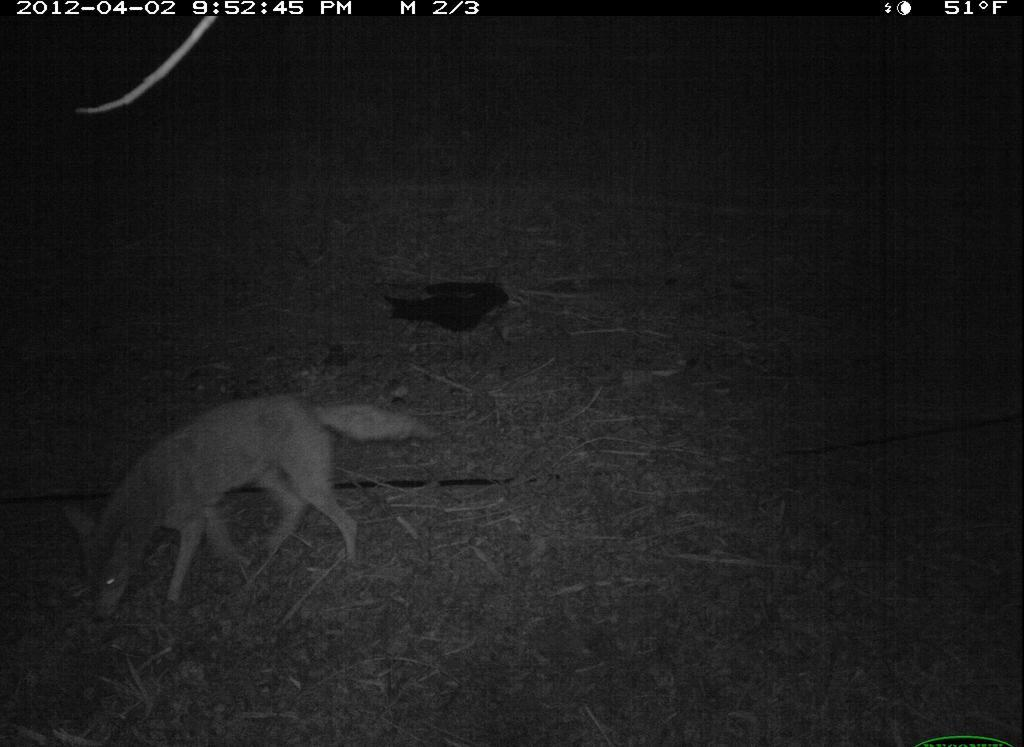coyote: (54, 388, 447, 625)
